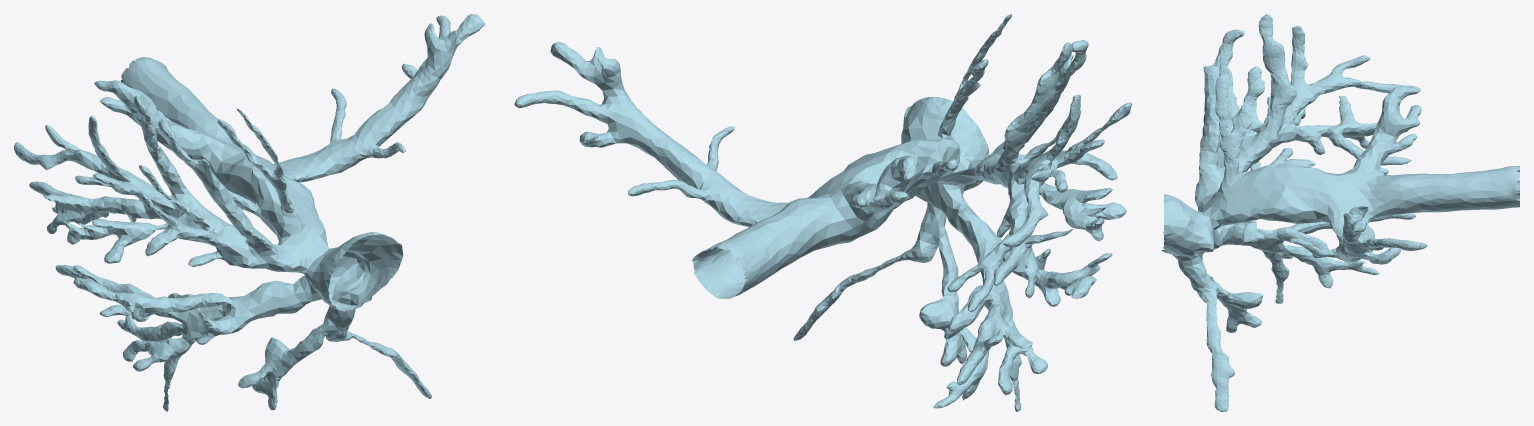
The model's file is venoussystem.obj.
3 views of the same model, side by side, from view 1: azimuth 30°, elevation 25°; view 2: azimuth 150°, elevation 25°; view 3: azimuth 270°, elevation 25° (orthographic). The views are drawn at different scales.
Parts seen in each view (by area): view 1: grp1; view 2: grp1; view 3: grp1.
Part boxes in pixels (<box>): grp1: <box>14,14,485,411</box>; grp1: <box>514,14,1132,411</box>; grp1: <box>1161,14,1519,411</box>.
Bounding box in the file's own units: 218 × 160 × 179.
